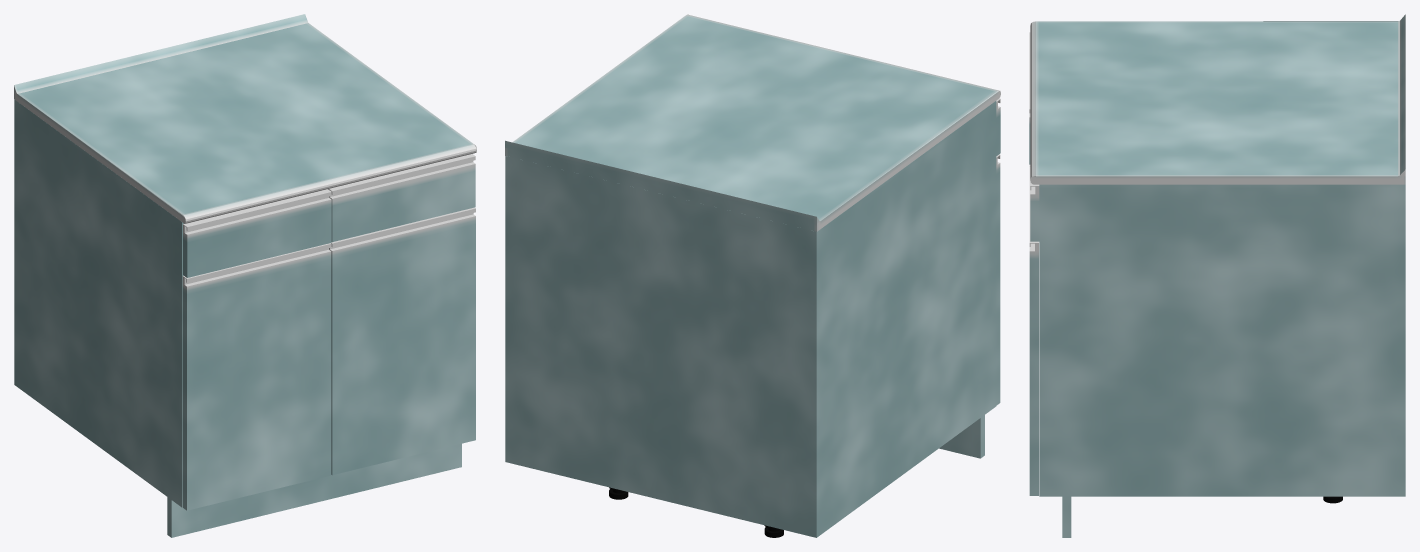
File: lower_shelf_all.fbx
3 views of the same model, side by side, from view 1: azimuth 30°, elevation 25°; view 2: azimuth 150°, elevation 25°; view 3: azimuth 270°, elevation 25° (orthographic). The views are drawn at different scales.
Parts seen in each view (by area): view 1: lower_shelf_all_Baked; view 2: lower_shelf_all_Baked; view 3: lower_shelf_all_Baked.
Boxes of the visible parts, x1=… form: lower_shelf_all_Baked: x1=14, y1=14, x2=476, y2=537; lower_shelf_all_Baked: x1=505, y1=14, x2=1000, y2=537; lower_shelf_all_Baked: x1=1029, y1=14, x2=1405, y2=537.
Bounding box in the file's own units: 80.19 × 88.96 × 82.19.
